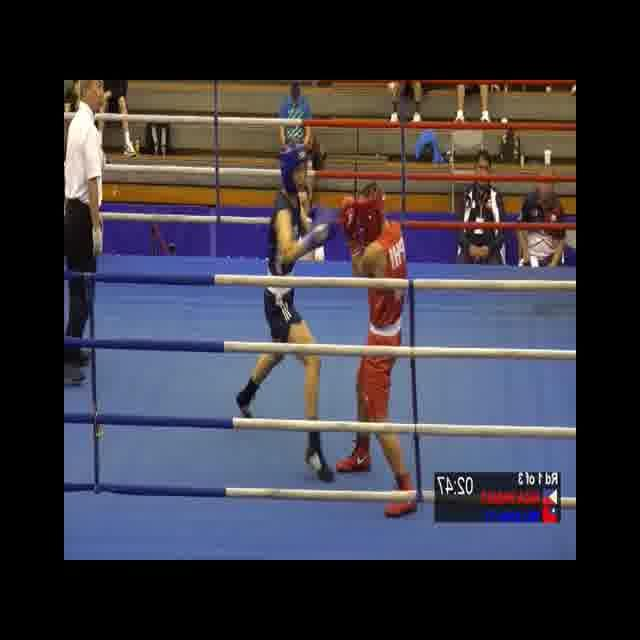blue-player: (235, 141, 341, 488)
red-player: (333, 180, 418, 520)
referee: (63, 80, 112, 388)
